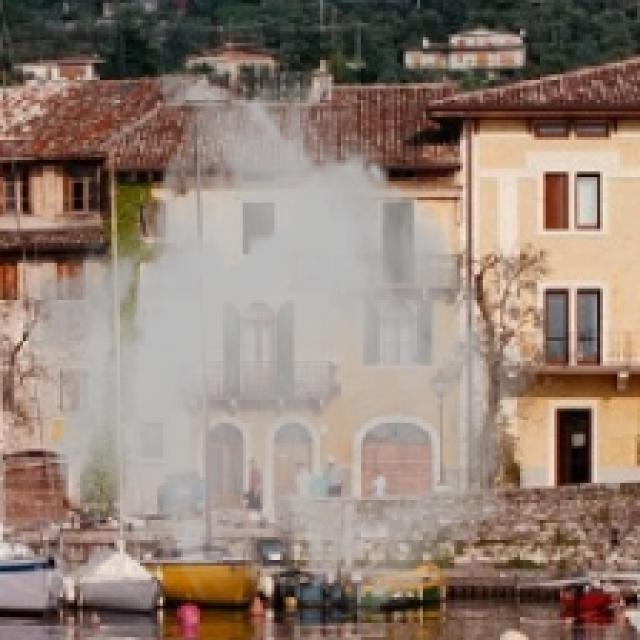Smoke: (17, 57, 540, 620)
